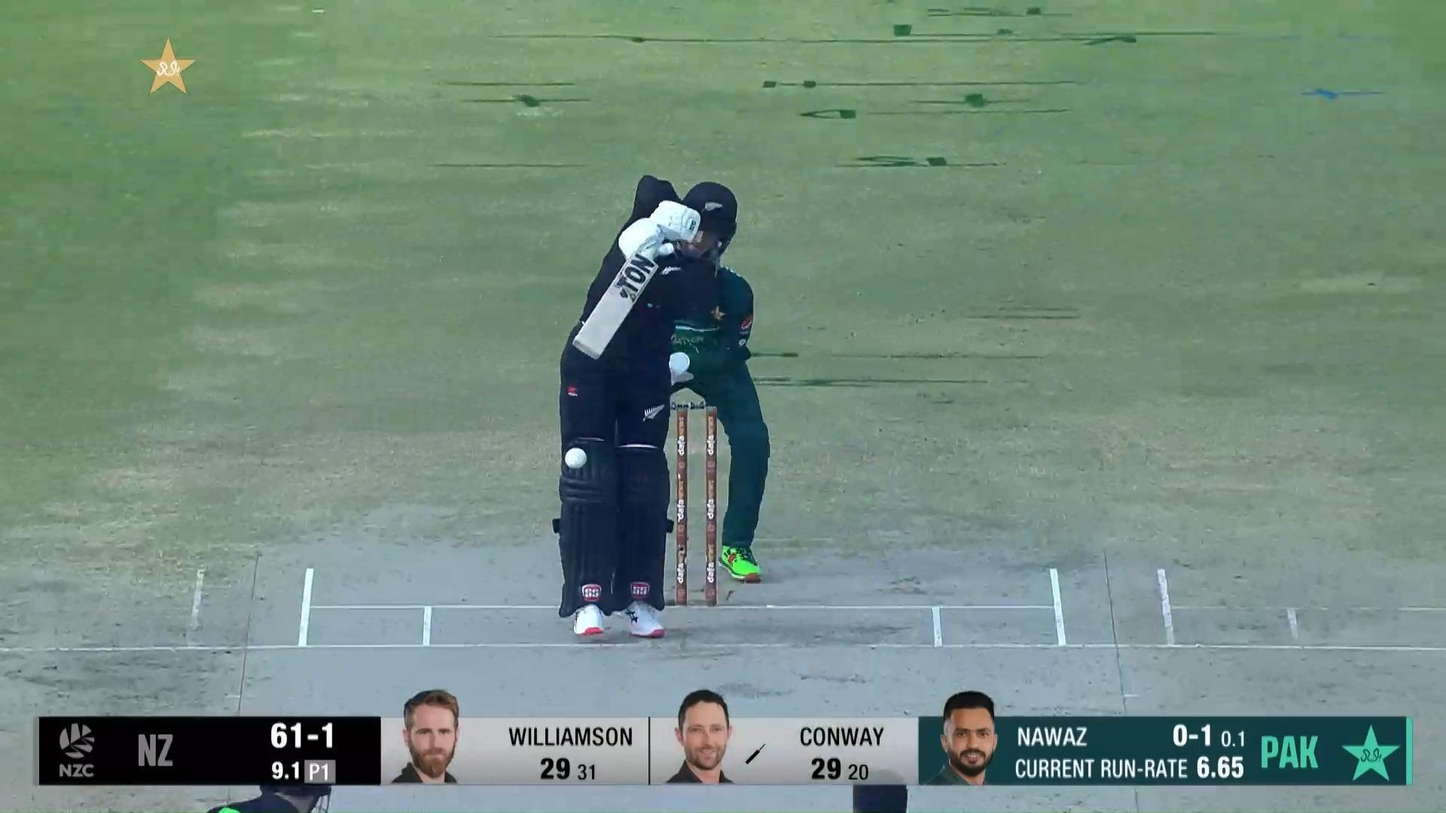BM 1: (554, 173, 738, 640)
BO: (847, 764, 911, 813)
